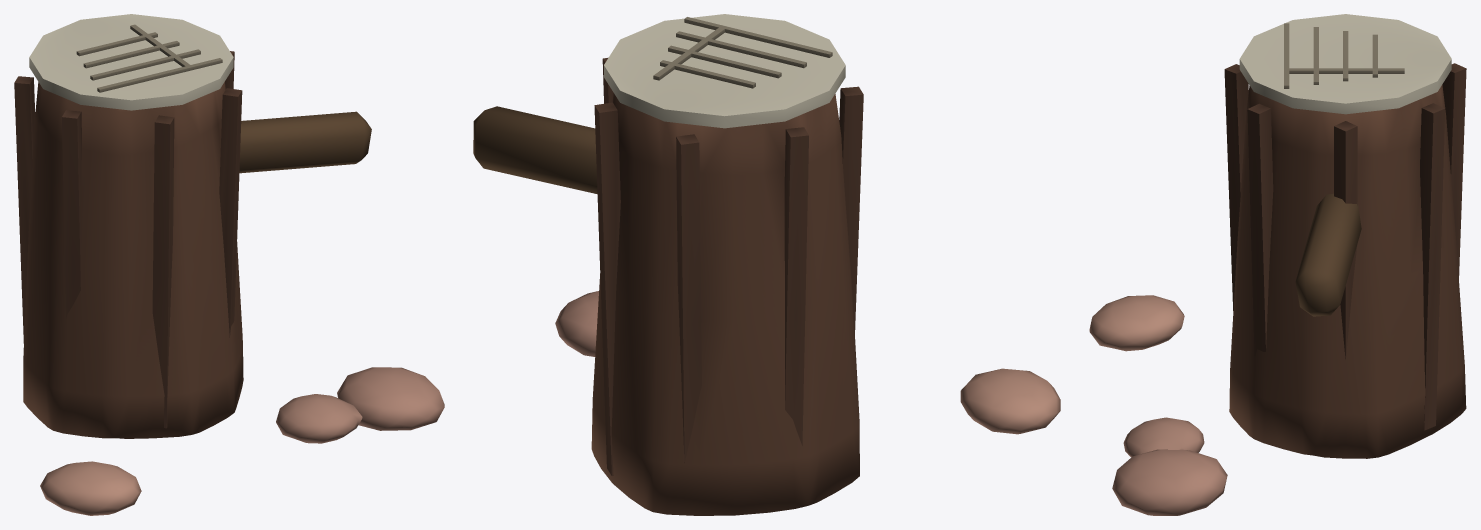
File: chart_post_a.glb
The picture shows the model from 3 angles, left to right: view 1: azimuth 30°, elevation 25°; view 2: azimuth 150°, elevation 25°; view 3: azimuth 270°, elevation 25°; orthographic projection. The views are drawn at different scales.
Parts seen in each view (by area): view 1: Surface; view 2: Surface; view 3: Surface.
Part boxes in pixels (x1,y1,x2,y2): Surface: (14,14,444,515); Surface: (473,14,1060,515); Surface: (1089,14,1466,515).
Bounding box in the file's own units: 1.65 × 1.36 × 1.28.
